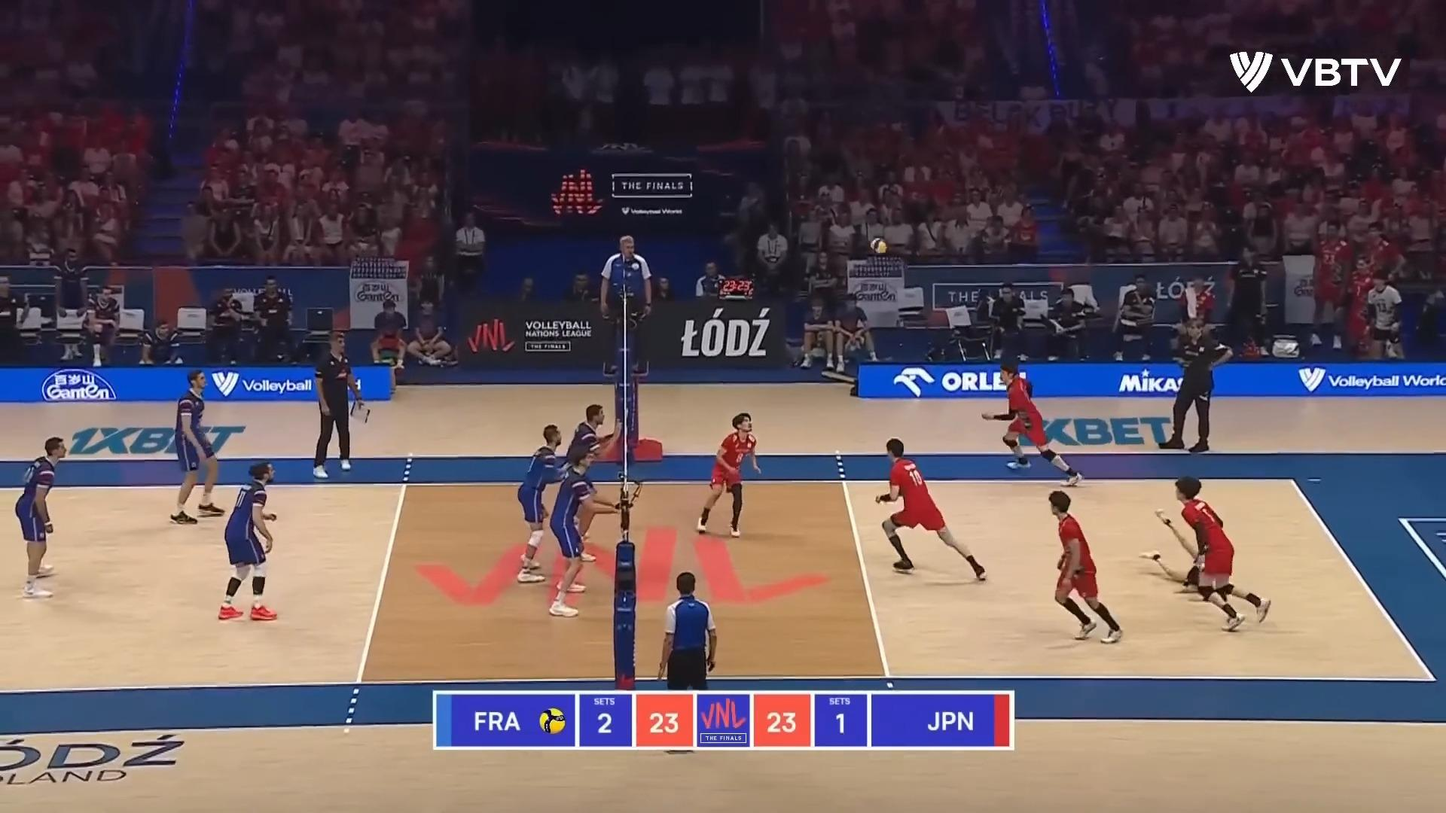ball: (869, 236, 888, 257)
